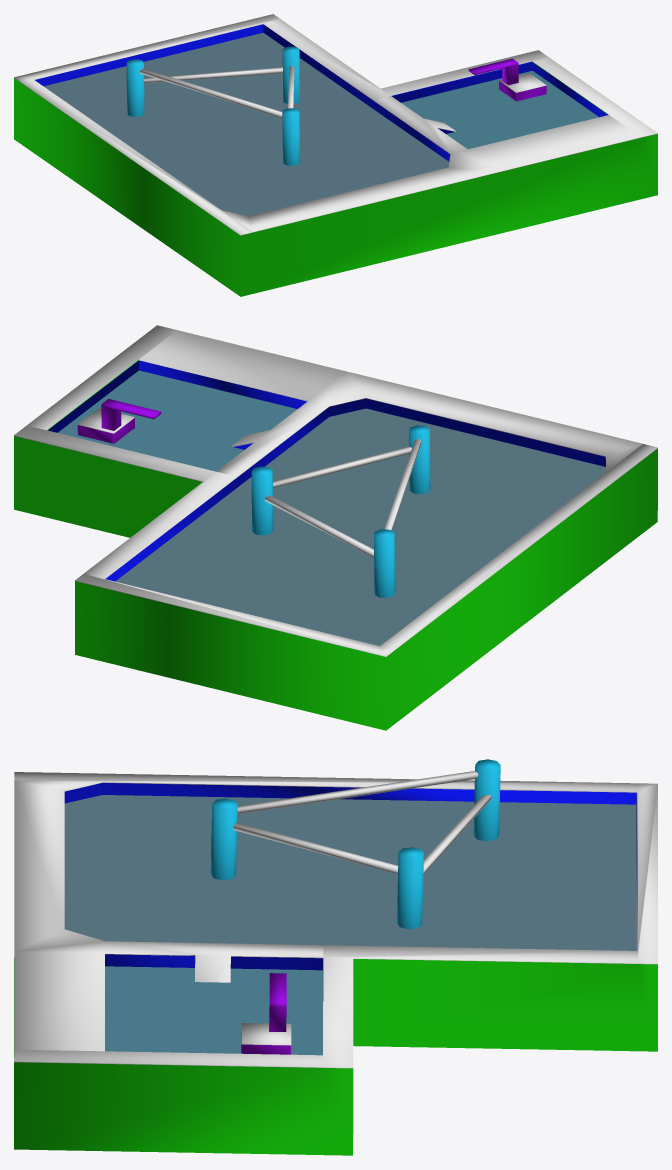
The model's file is Studio Pool.fbx.
The picture shows the model from 3 angles, top to bottom: view 1: azimuth 30°, elevation 25°; view 2: azimuth 150°, elevation 25°; view 3: azimuth 270°, elevation 25°; orthographic projection. The views are drawn at different scales.
Parts seen in each view (by area): view 1: Pool, Water 01, Water 02; view 2: Pool, Water 01, Water 02; view 3: Pool, Water 01, Water 02.
Boxes of the visible parts, x1=… form: Pool: x1=14, y1=14, x2=657, y2=296; Water 01: x1=44, y1=32, x2=449, y2=216; Water 02: x1=401, y1=70, x2=598, y2=149; Pool: x1=14, y1=325, x2=657, y2=730; Water 01: x1=115, y1=408, x2=605, y2=645; Water 02: x1=58, y1=370, x2=297, y2=471; Pool: x1=14, y1=759, x2=657, y2=1155; Water 01: x1=64, y1=795, x2=636, y2=950; Water 02: x1=105, y1=966, x2=322, y2=1055.
Bounding box in the file's own units: 8029 × 2002 × 7551.
